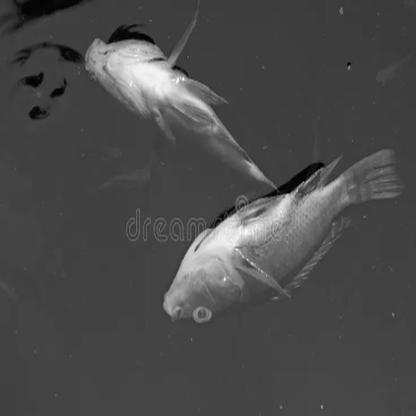deceased fish: (162, 149, 409, 323), (71, 32, 282, 191)
